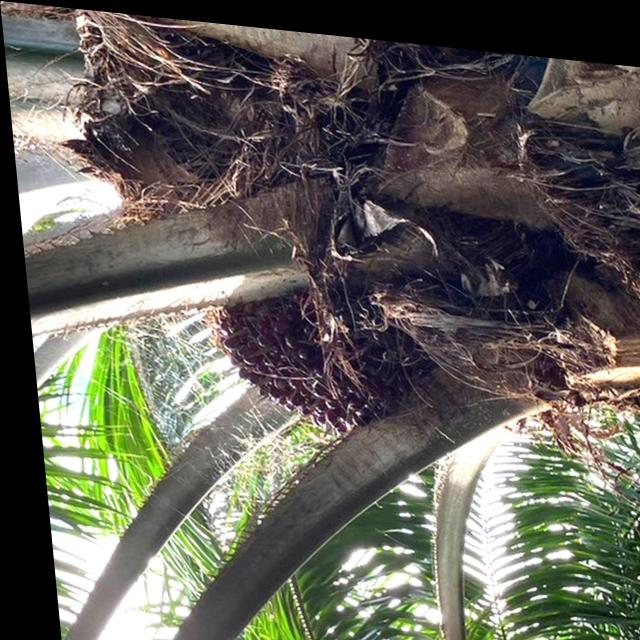ripe: (190, 264, 438, 445)
